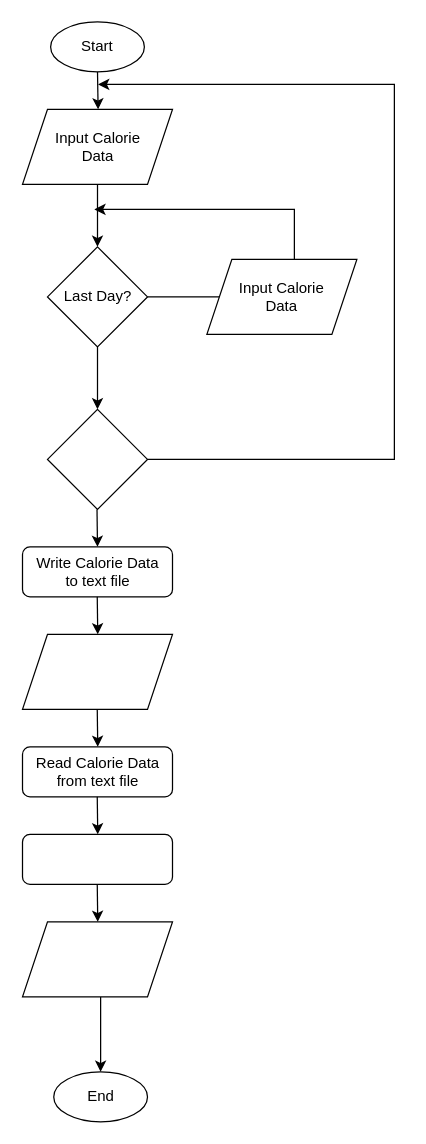
Image size: 426x1144. Some labels were removed from this diagram. Here are the shapes that lost their labels. From the top down, the centre of each, then its label:
At pixel 97 458: "Input another week?".
At pixel 96 671: "Read data from text file".
At pixel 96 858: "Calculate calorie deficit and weight lost".
At pixel 96 959: "Display Data".
